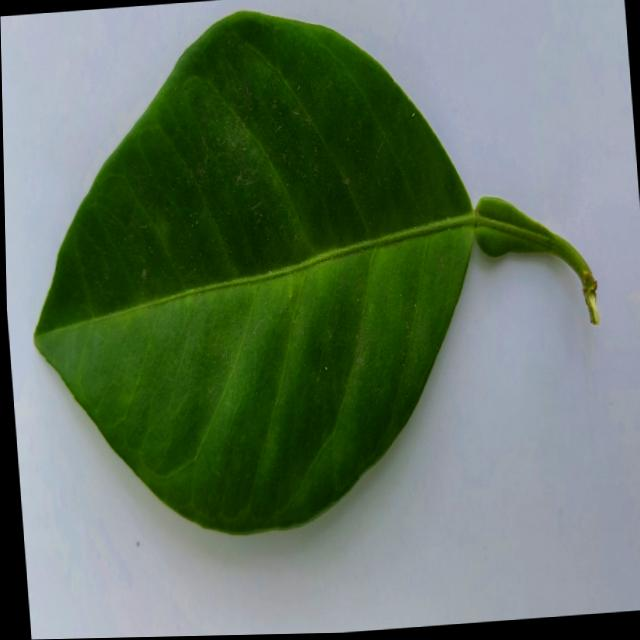greening: (33, 14, 595, 534)
